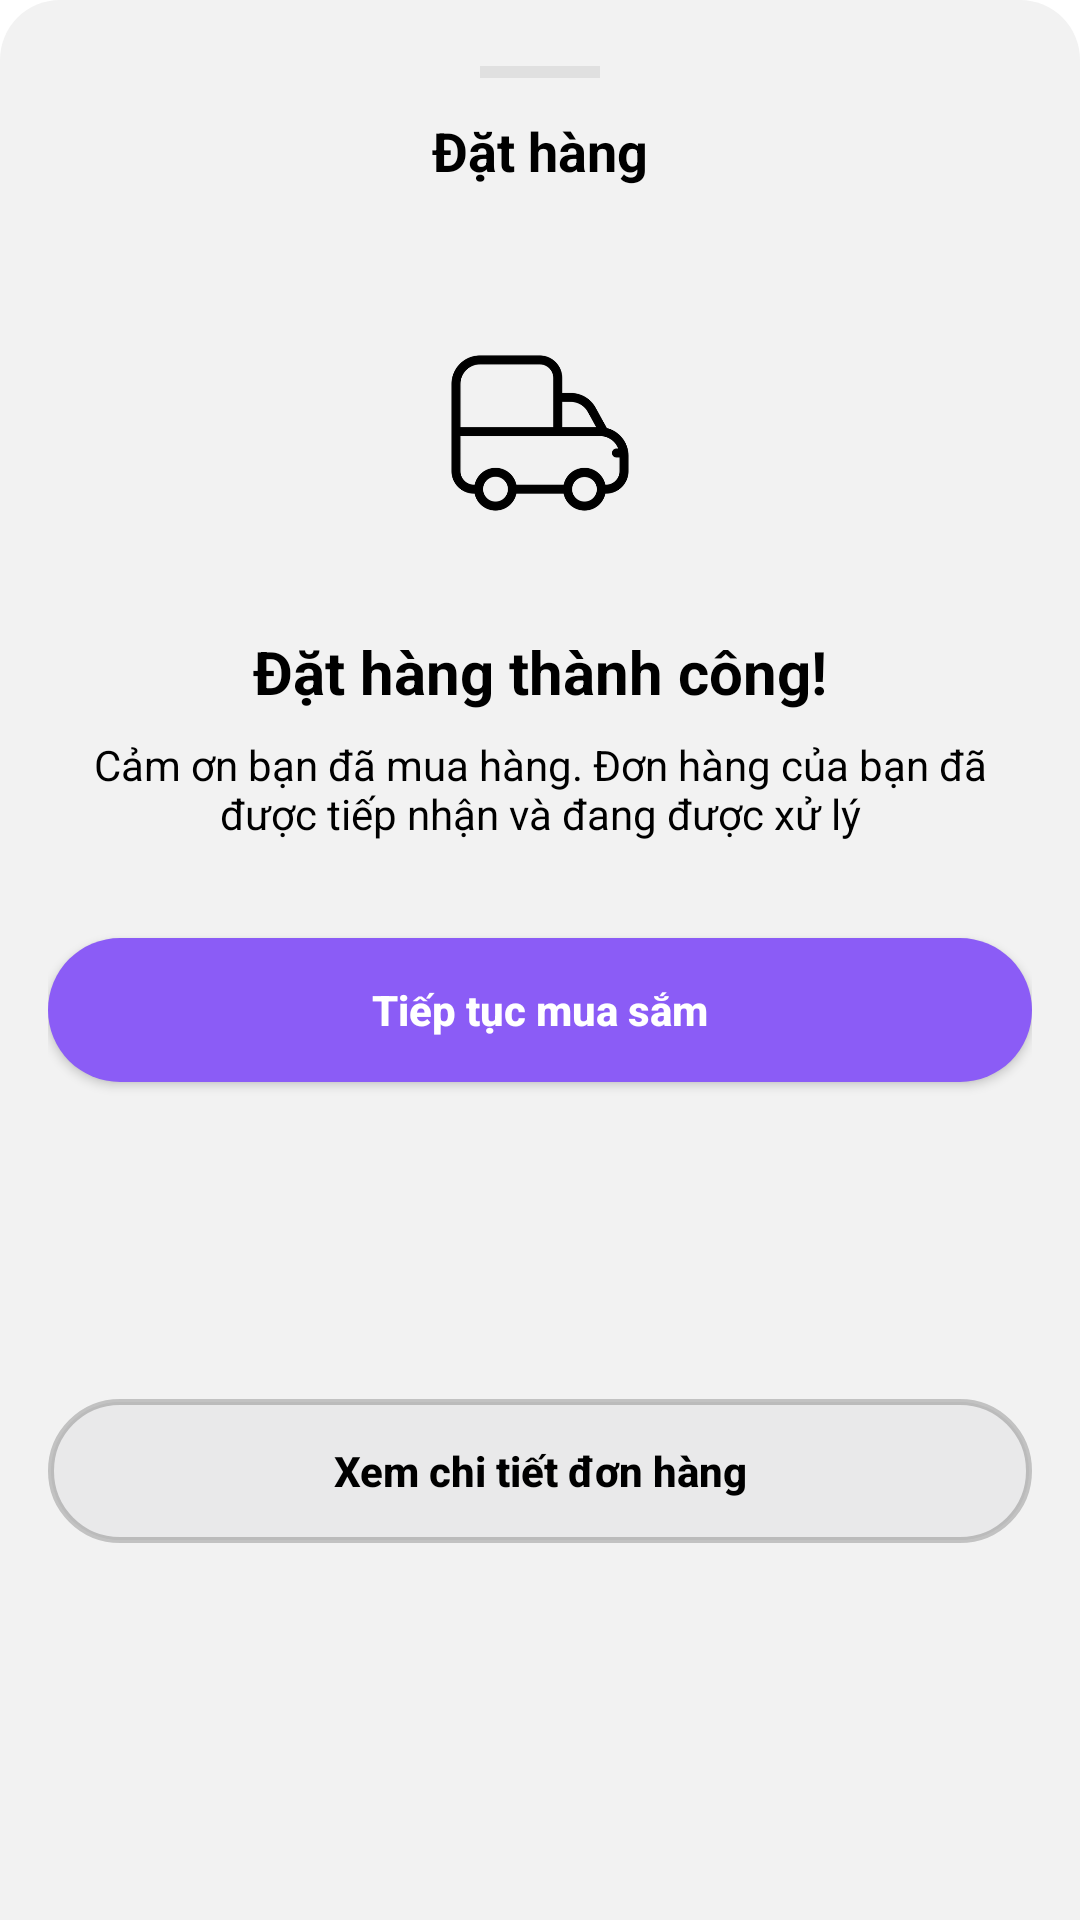

Icons on this 1080*1920 Android screen, each with its box as bbox=(x1, y1, x2, y2):
dang giao hang: bbox=(451, 355, 629, 511)
